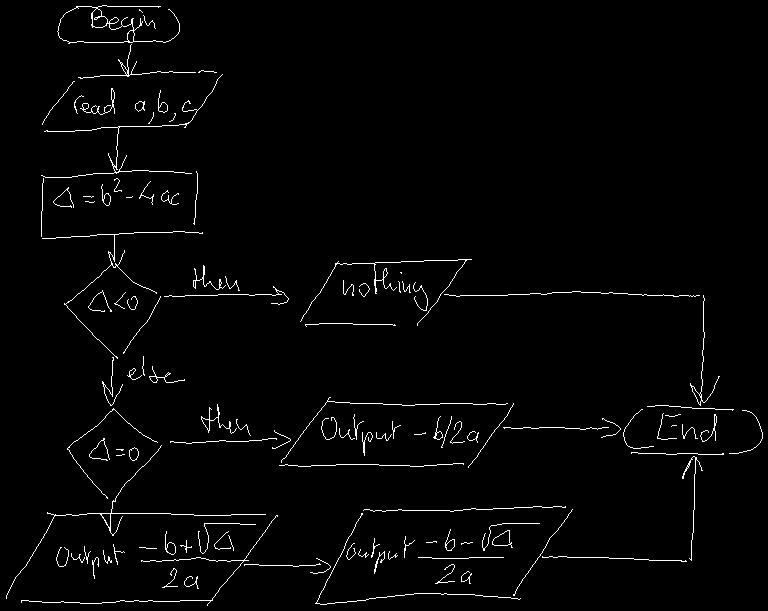arrow: (444, 291, 719, 405), (542, 456, 702, 561), (164, 286, 288, 304), (503, 418, 620, 437), (170, 430, 290, 448), (244, 558, 330, 573), (102, 357, 122, 405), (108, 127, 126, 173), (100, 500, 122, 535), (118, 44, 136, 76), (108, 234, 124, 267)
data: (6, 512, 277, 605), (315, 506, 572, 604), (279, 397, 513, 467), (300, 259, 471, 326), (42, 70, 222, 131)
decision: (64, 263, 160, 358), (67, 408, 161, 501)
process: (41, 170, 202, 238)
terminator: (623, 405, 762, 454), (57, 5, 179, 43)
text: (56, 523, 255, 588), (346, 523, 539, 583), (321, 414, 478, 455), (74, 88, 196, 123), (343, 264, 427, 310), (53, 178, 178, 207), (91, 8, 155, 42), (657, 413, 716, 441), (201, 404, 250, 435), (127, 356, 184, 382), (193, 265, 239, 290), (89, 438, 138, 460), (88, 290, 137, 311)
